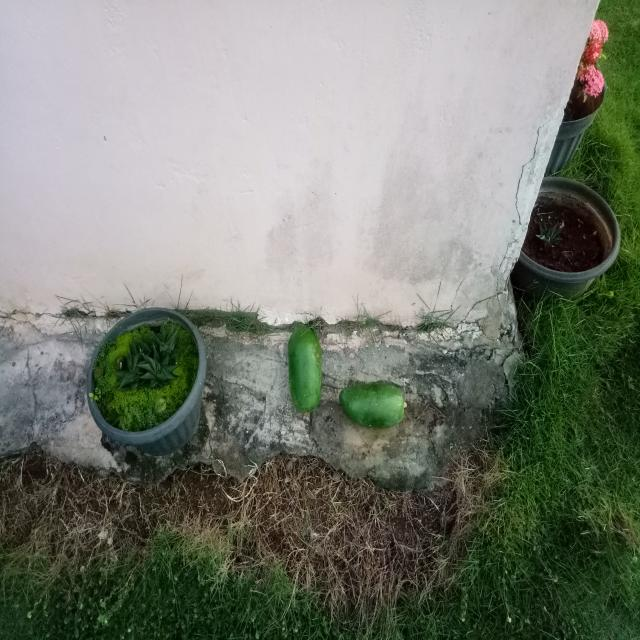Pepaya unrippen: (340, 373, 410, 431), (283, 323, 322, 416)
